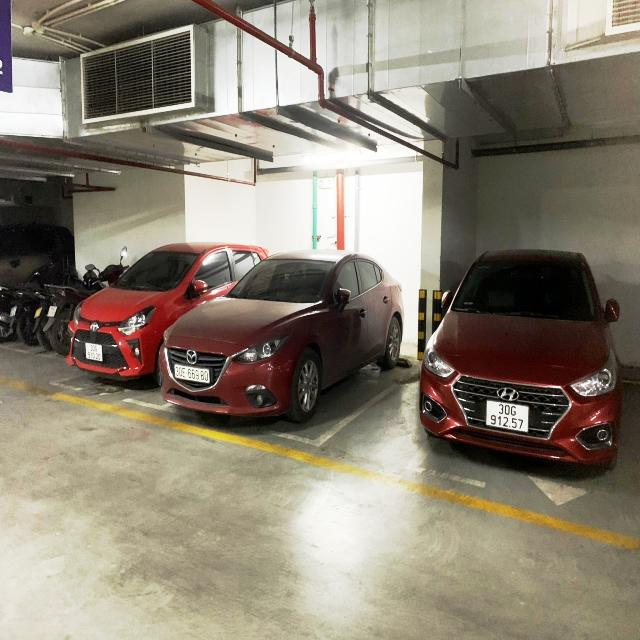license_plate: (487, 401, 530, 435), (175, 365, 212, 385), (86, 343, 104, 363)
